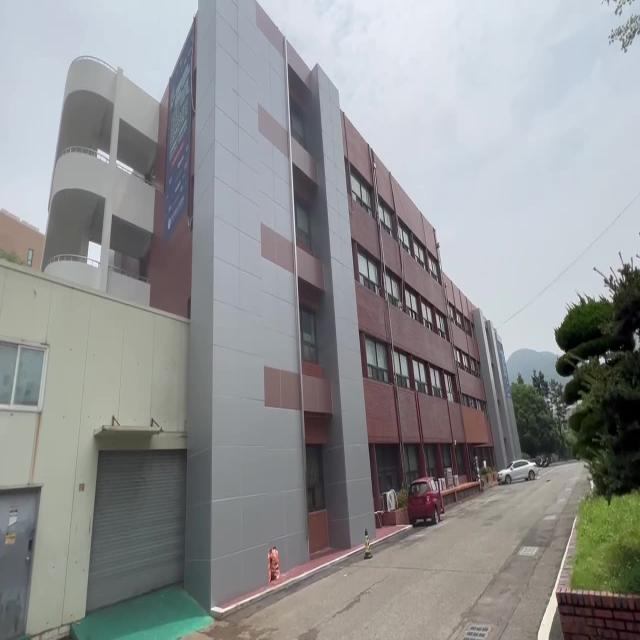building: (204, 41, 447, 442)
